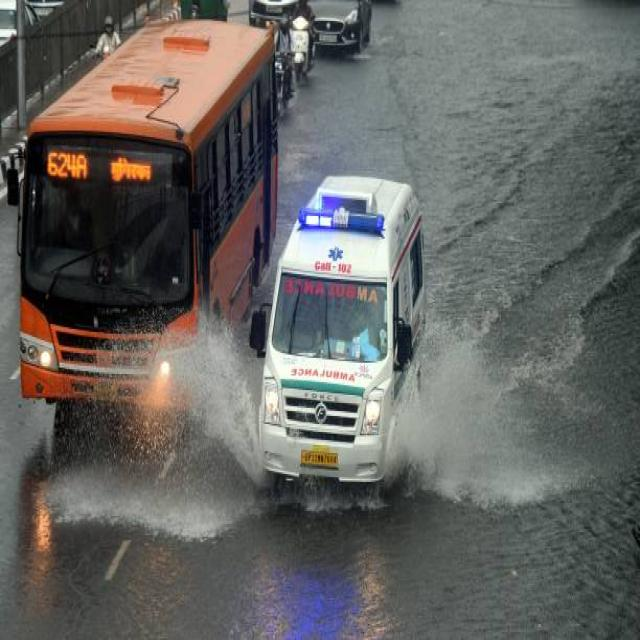ambulance: (262, 171, 427, 486), (295, 201, 386, 277), (284, 261, 382, 324)
